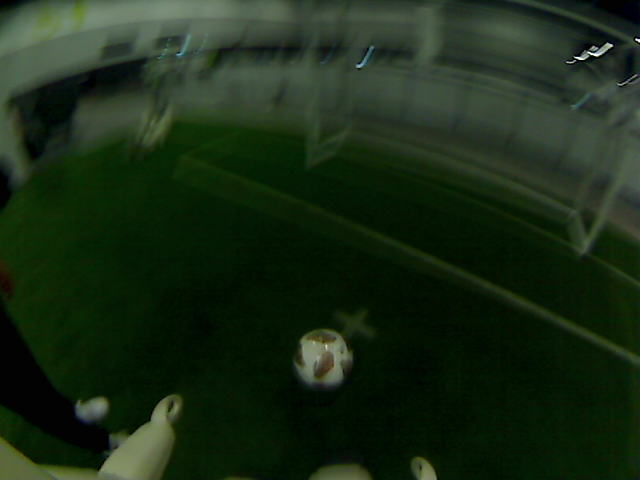ball: (300, 339, 340, 379)
goalpost: (301, 112, 323, 166), (575, 200, 592, 254)
